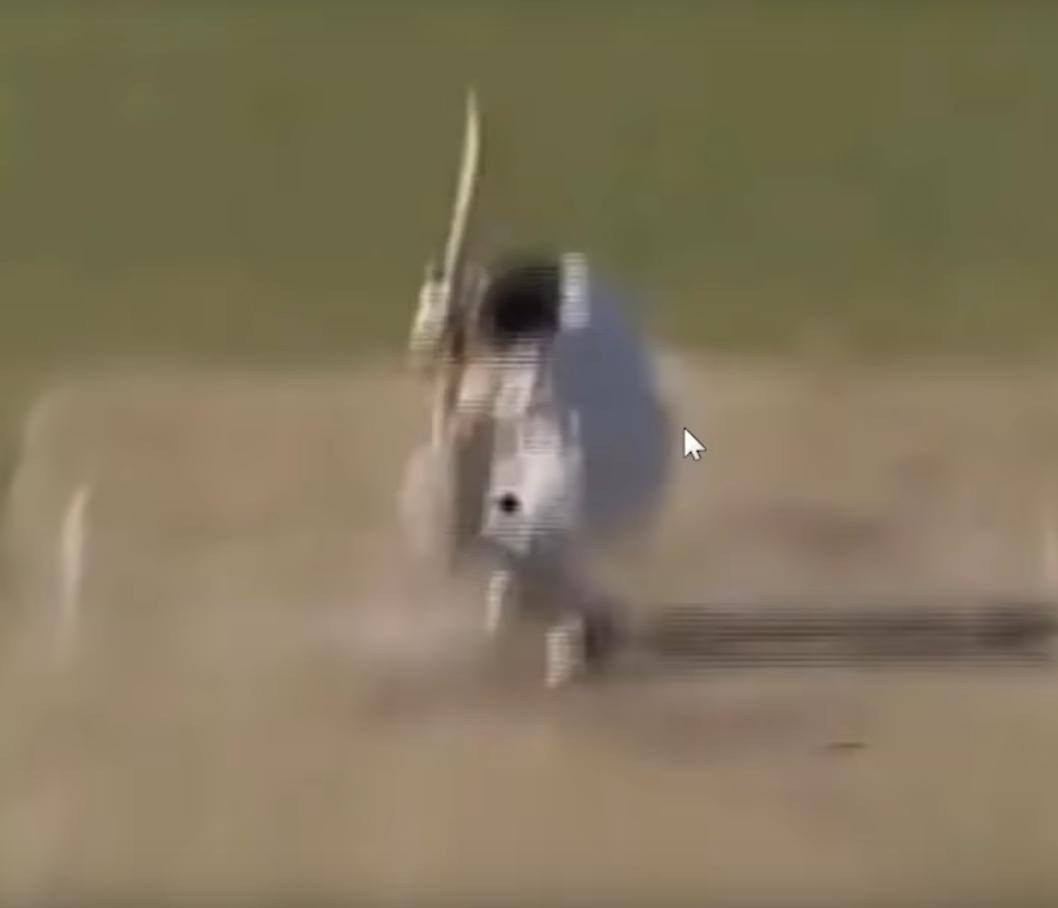Cricket-Ball: (488, 486, 531, 520)
